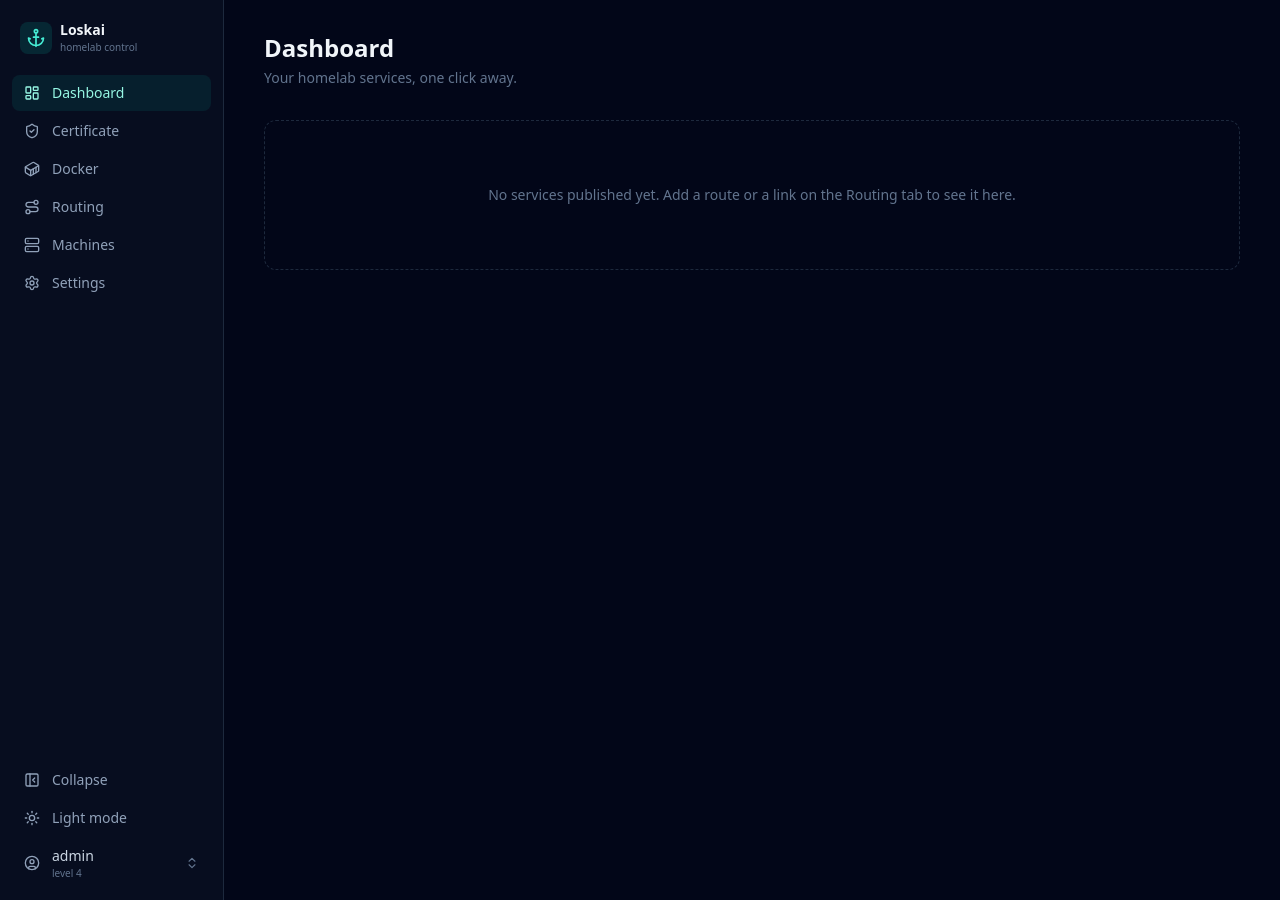
Test: your name in the sidebar opens a menu: change your password, or log out
The width and height of the screenshot is (1280, 900).
Click the button titled "Your account" at (112, 863), box [12,838,211,888]
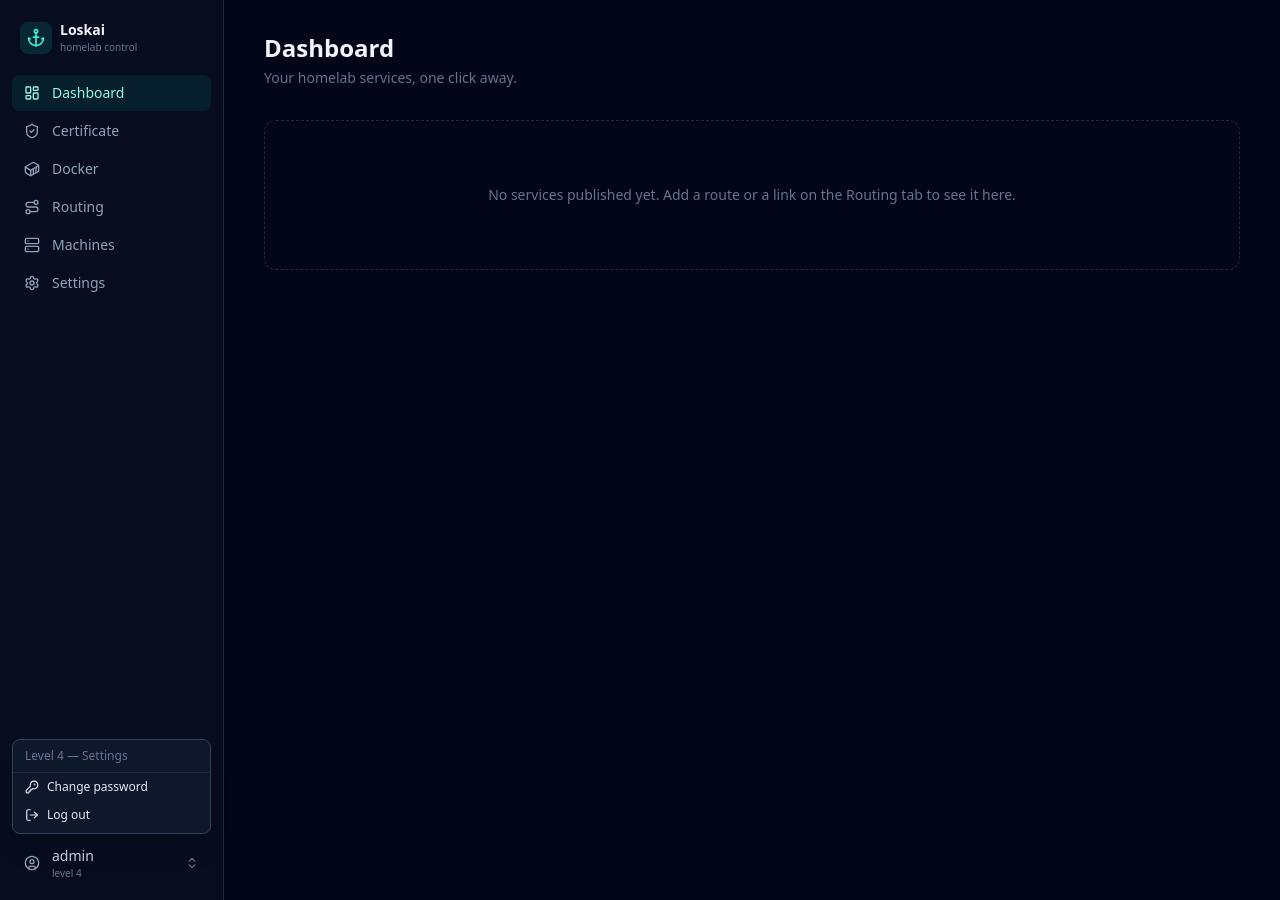
Check: the text "Level 4 — Settings" is shown, box [13,744,210,773]
Check: the menu items read "Change password", "Log out", in this order
Click the menu item "Change password" at (112, 787), box [13,773,210,801]
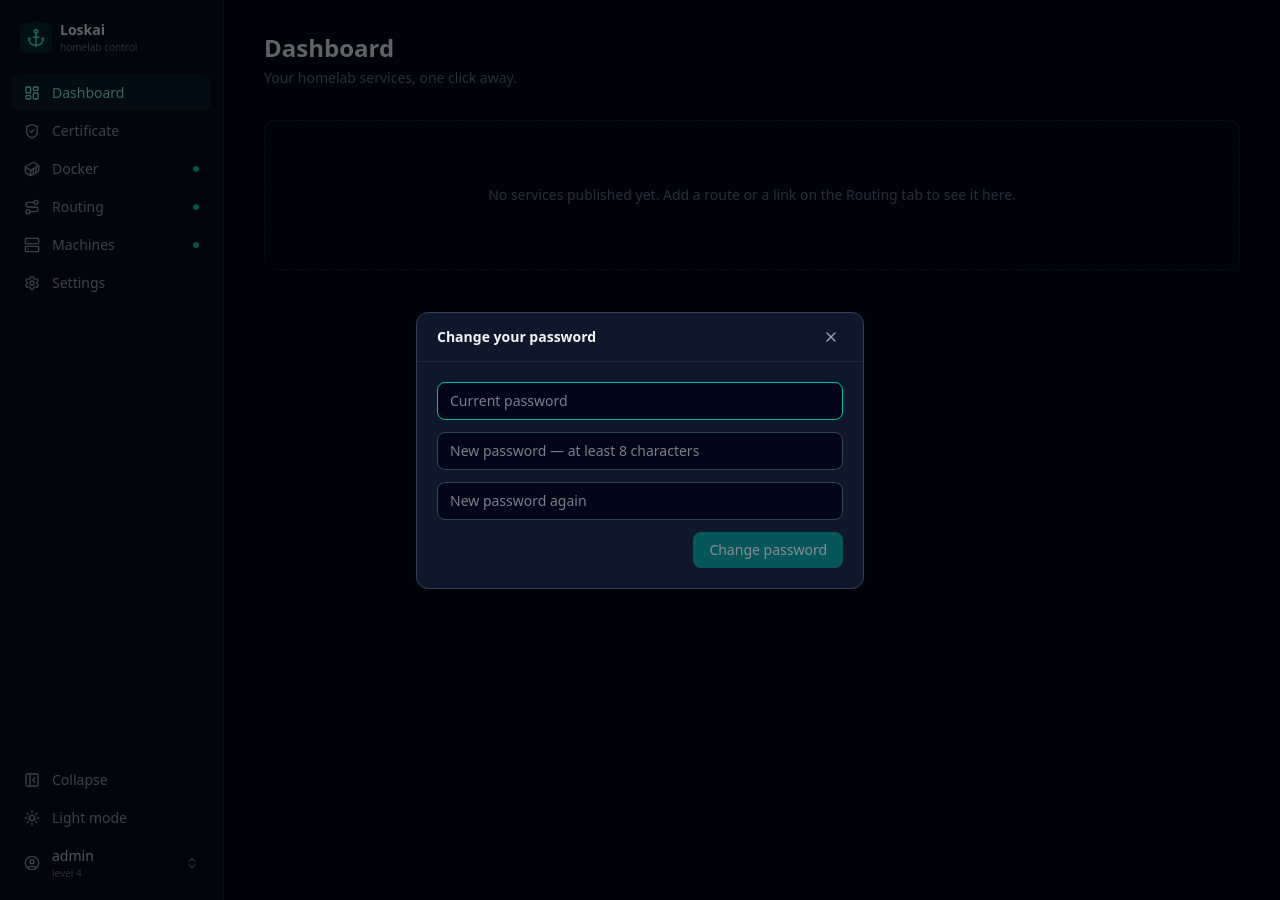
Type "old-password" into the password field labelled "Current password" at (640, 400), box [437,382,843,420]
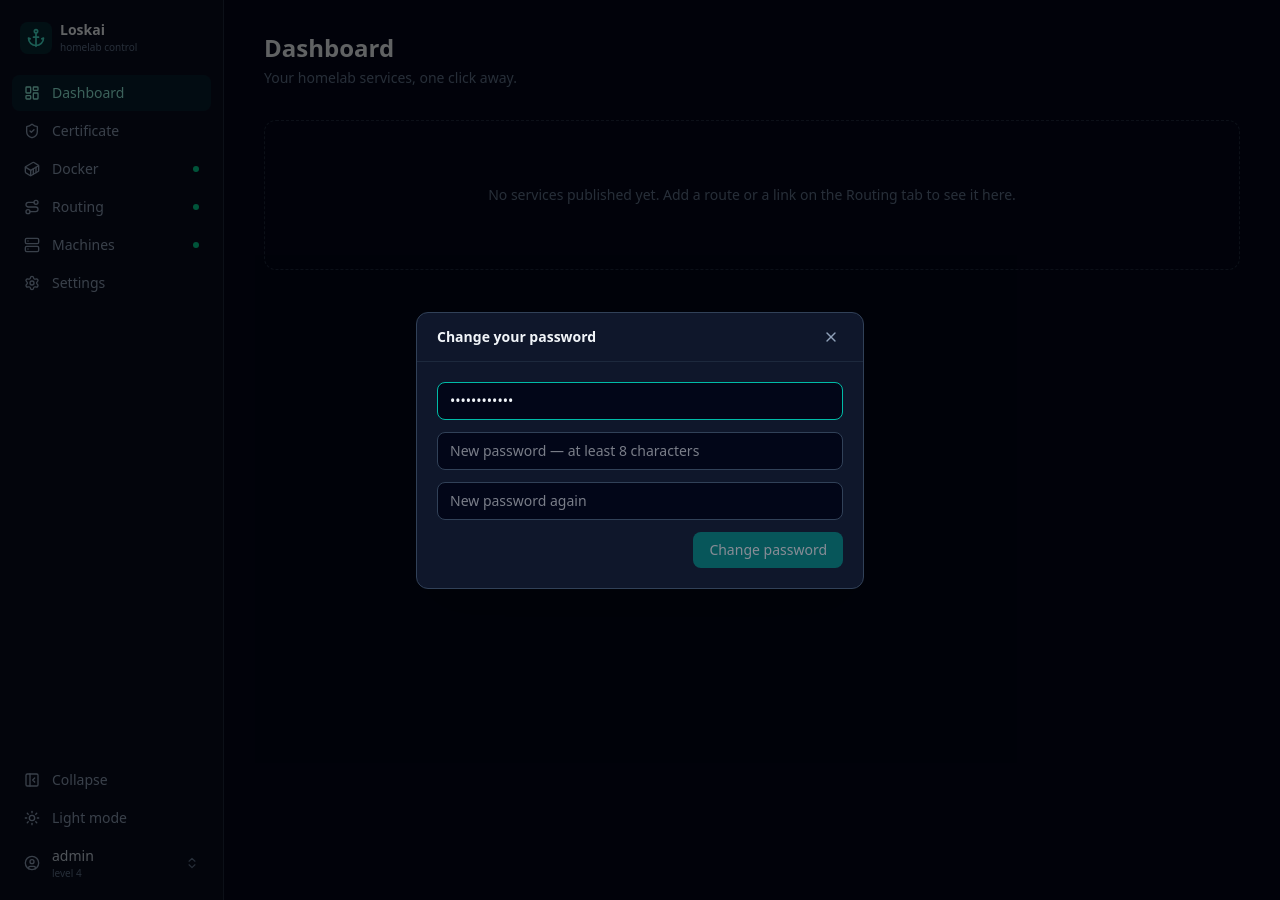
Type "a new password" into the password field labelled "New password" at (640, 450), box [437,432,843,470]
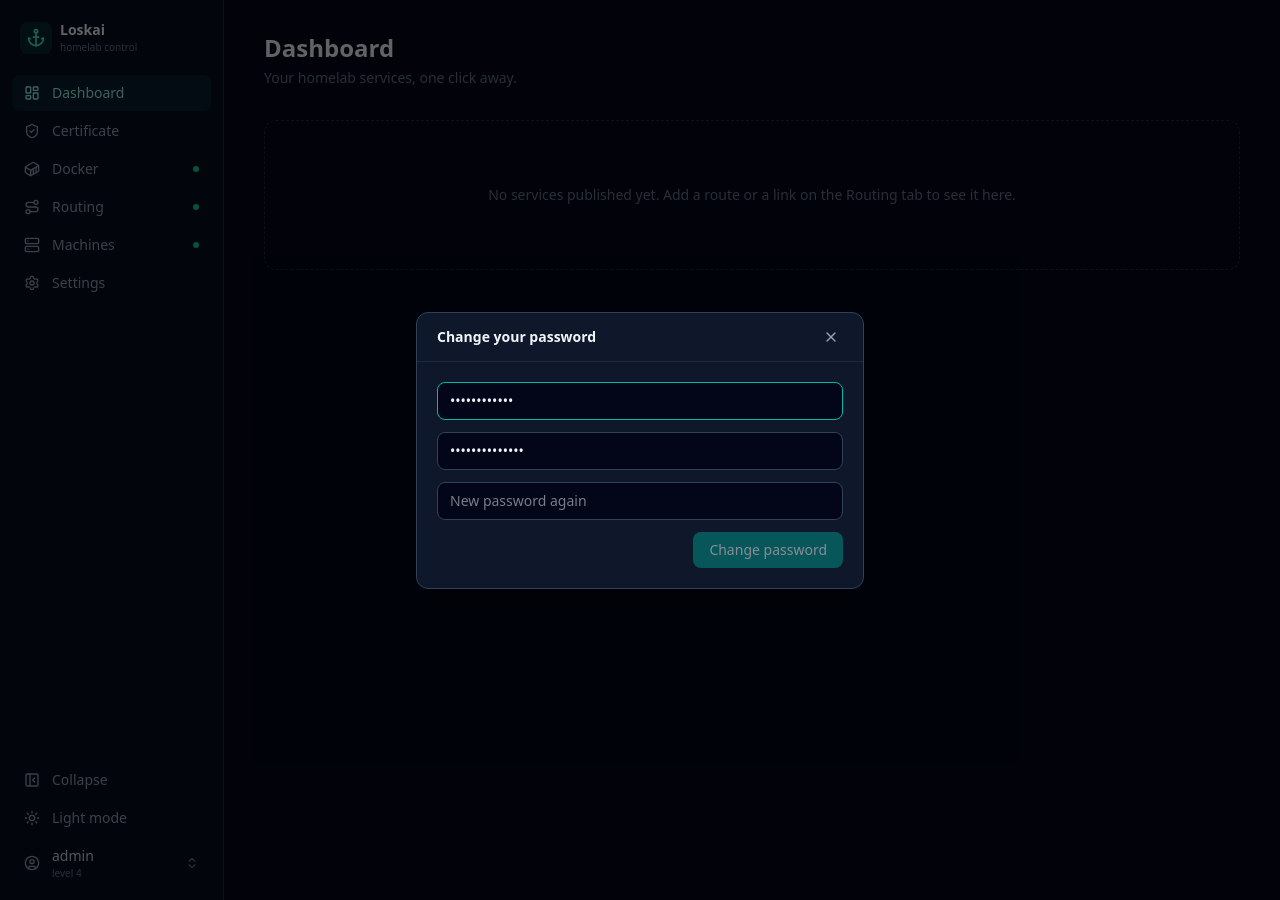
Type "a new password" into the password field labelled "New password again" at (640, 500), box [437,482,843,520]
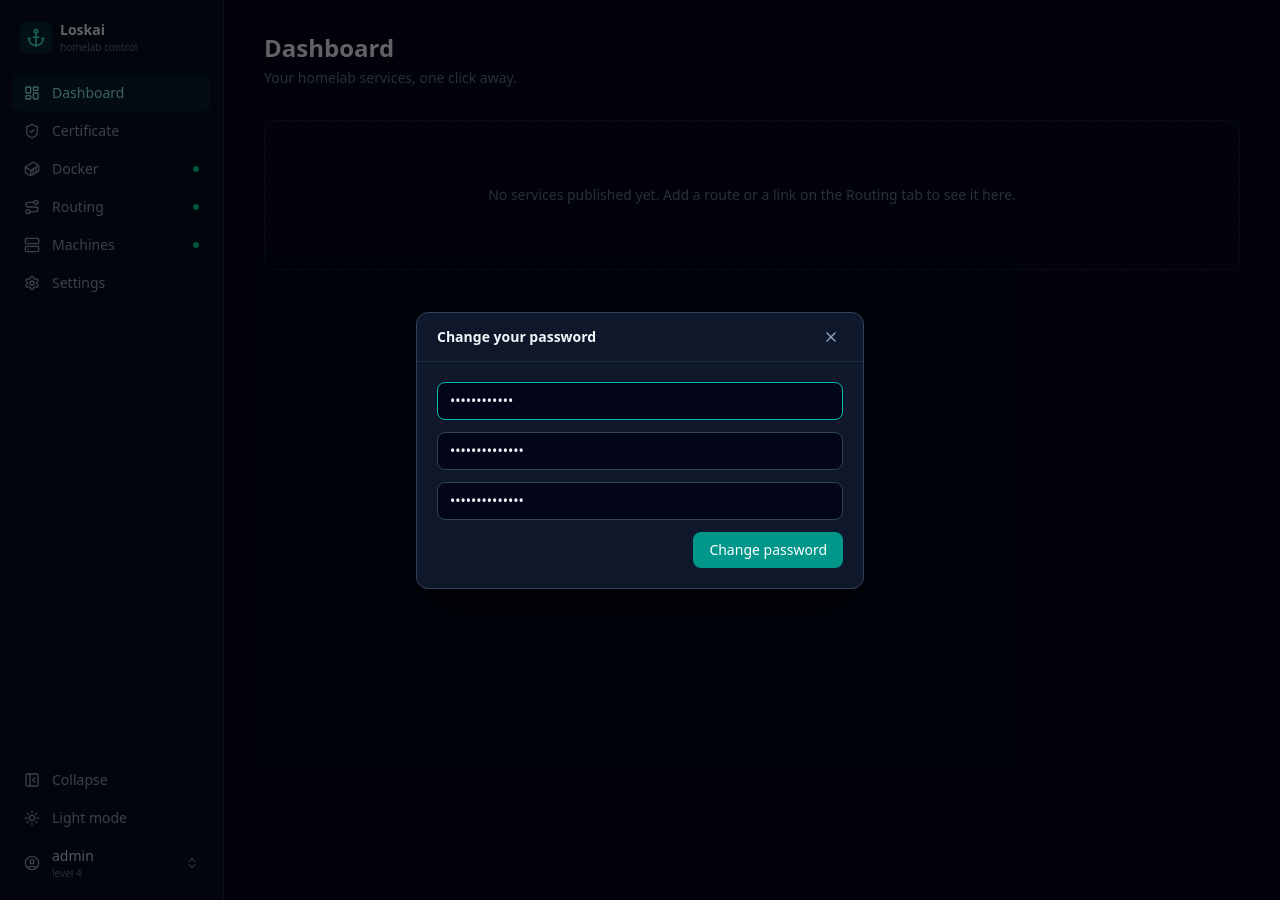
Click the button "Change password" at (768, 550), box [693,532,843,568]
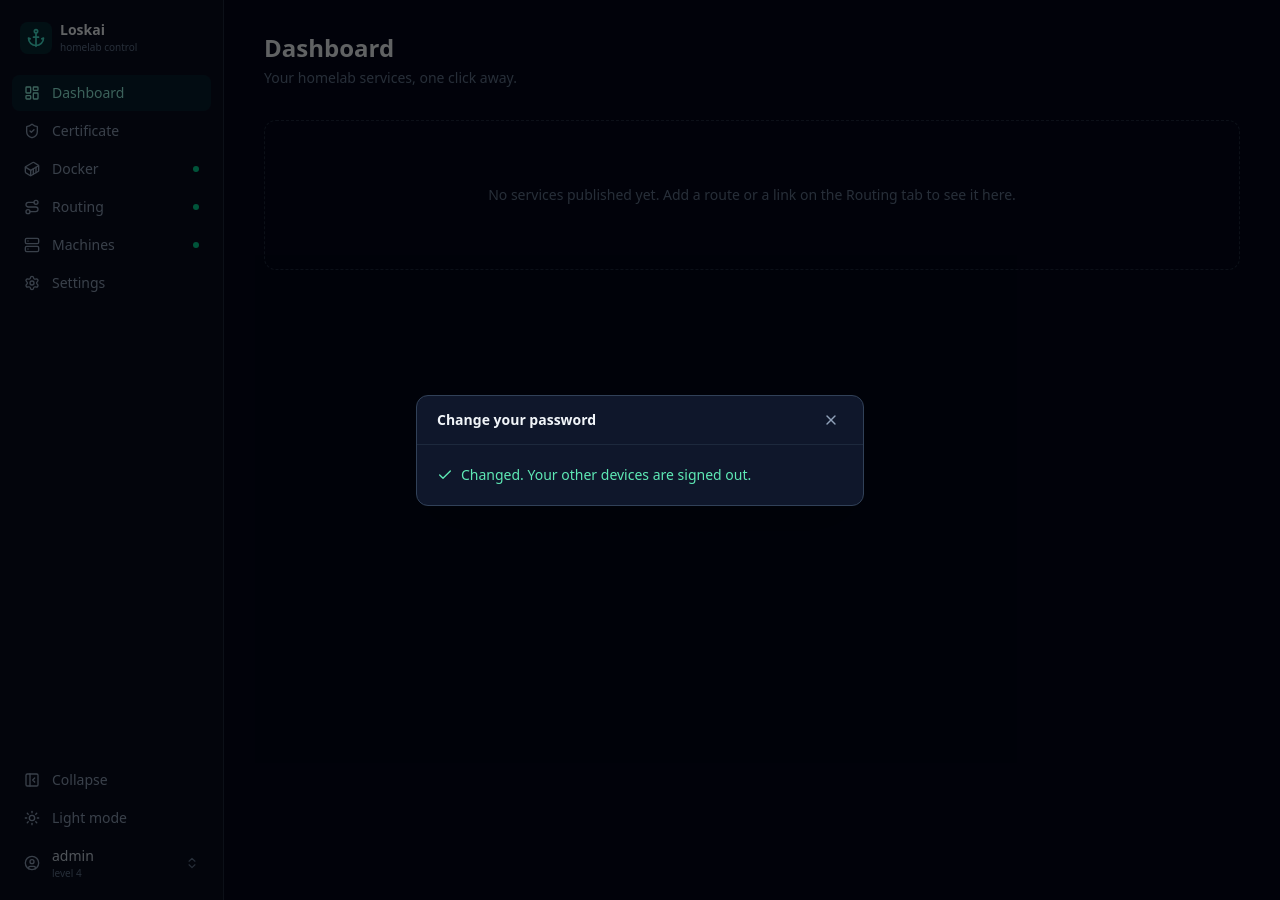
Check: the text "Changed. Your other devices are signed out." is shown, box [437,464,751,484]
